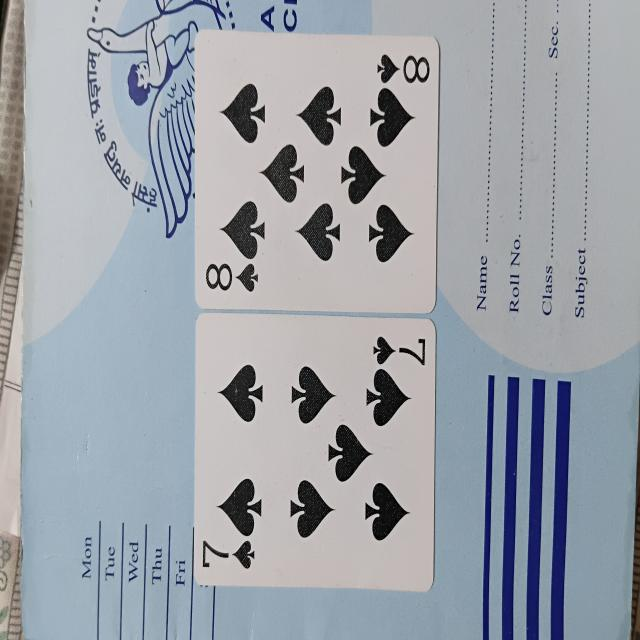7S: (194, 314, 442, 597)
8S: (196, 25, 438, 319)
